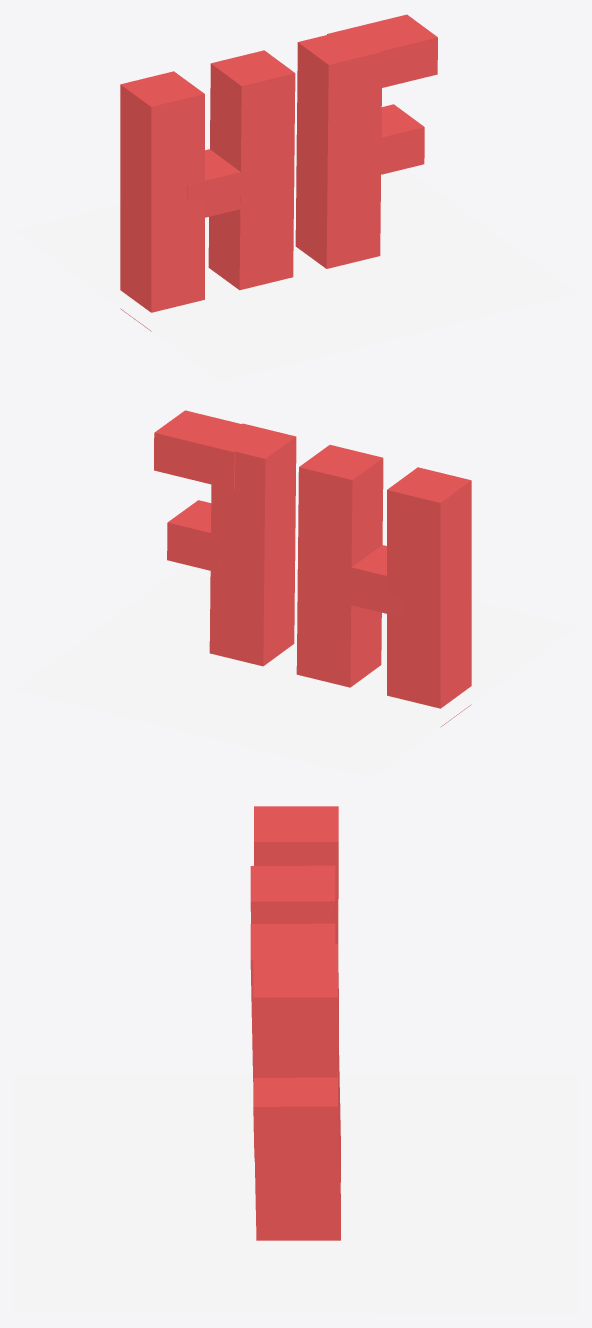
3 renders of one model, top to bottom at view 1: azimuth 30°, elevation 25°; view 2: azimuth 150°, elevation 25°; view 3: azimuth 270°, elevation 25°, orthographic. The views are drawn at different scales.
Parts seen in each view (by area): view 1: Box (×6), Plane; view 2: Box (×6), Plane; view 3: Plane, Box (×5).
Boxes of the visible parts, x1=… form: Box (×6): x1=120, y1=14, x2=437, y2=331; Plane: x1=14, y1=162, x2=577, y2=381; Box (×6): x1=154, y1=410, x2=471, y2=727; Plane: x1=14, y1=557, x2=577, y2=777; Plane: x1=14, y1=1075, x2=577, y2=1313; Box (×5): x1=250, y1=806, x2=340, y2=1240.
Bounding box in the file's own units: 16 × 9.61 × 16.
